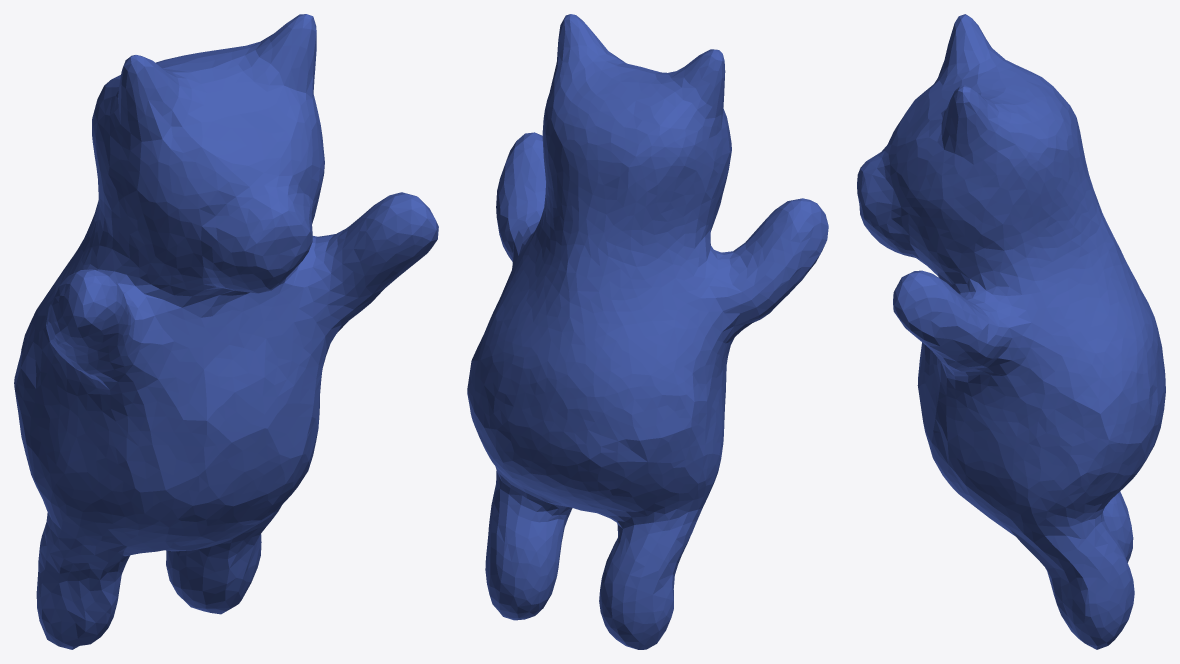
File: artestmodel.glb
3 renders of one model, left to right at view 1: azimuth 30°, elevation 25°; view 2: azimuth 150°, elevation 25°; view 3: azimuth 270°, elevation 25°, orthographic. The views are drawn at different scales.
Visible parts, largest first — view 1: 球; view 2: 球; view 3: 球.
Boxes of the visible parts, <box> form: 球: <box>14,14,438,649</box>; 球: <box>467,14,828,649</box>; 球: <box>857,14,1165,649</box>.
Size of the model in its own units: 1.61 by 2.72 by 1.35.
